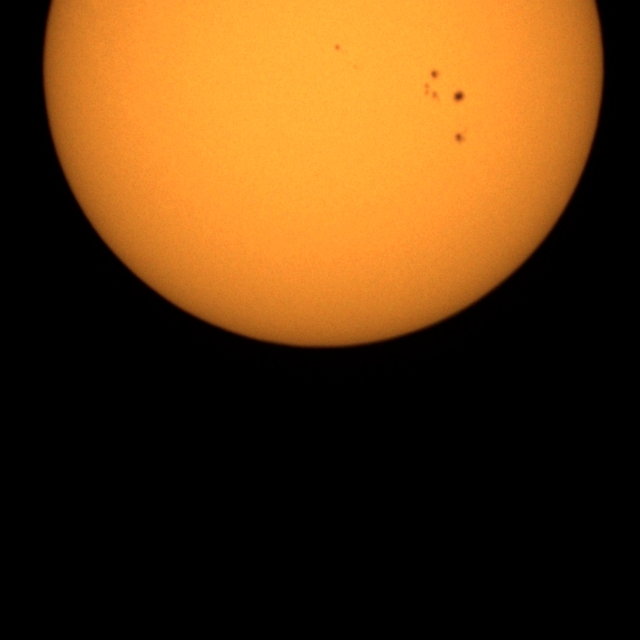sunspot: (421, 79, 468, 105), (423, 66, 444, 99), (423, 80, 440, 100), (451, 89, 466, 105), (453, 130, 466, 145), (429, 69, 440, 81), (333, 43, 341, 52)
